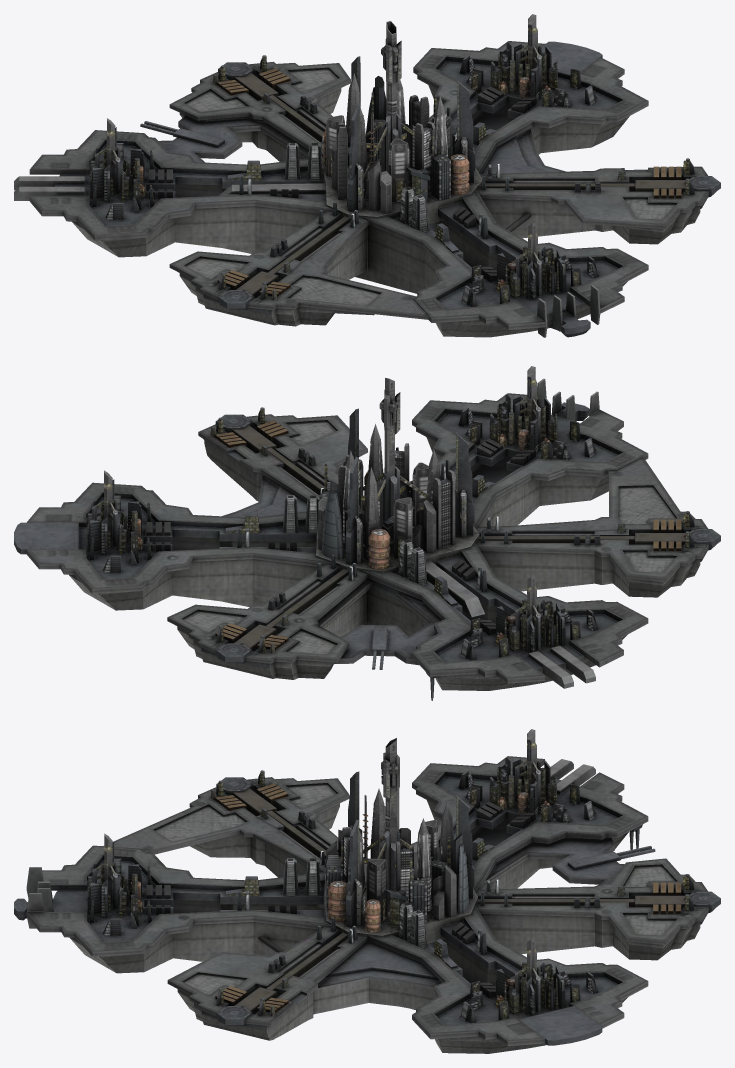
The model's file is atlantis.glb.
3 renders of one model, top to bottom at view 1: azimuth 30°, elevation 25°; view 2: azimuth 150°, elevation 25°; view 3: azimuth 270°, elevation 25°, orthographic.
Visible parts, largest first — view 1: g; view 2: g; view 3: g.
Boxes of the visible parts, box(x1,y1,x2,y2) form: g: box(14, 14, 720, 337); g: box(14, 366, 720, 700); g: box(14, 729, 720, 1053).
Size of the model in its own units: 1 by 0.3843 by 1.05.
Materials: 1 (1 with a texture image).
